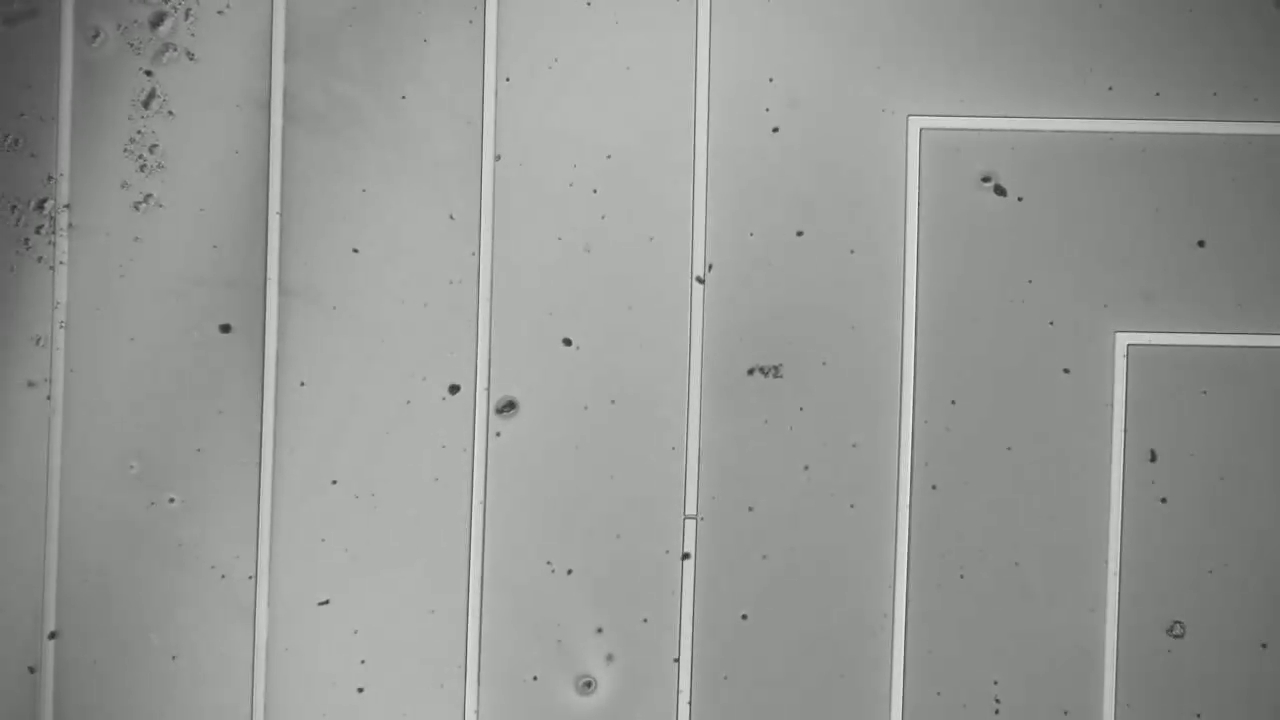open: (678, 506, 703, 529)
stains_enbedded: (31, 618, 67, 651), (684, 263, 718, 294), (675, 545, 701, 571)
